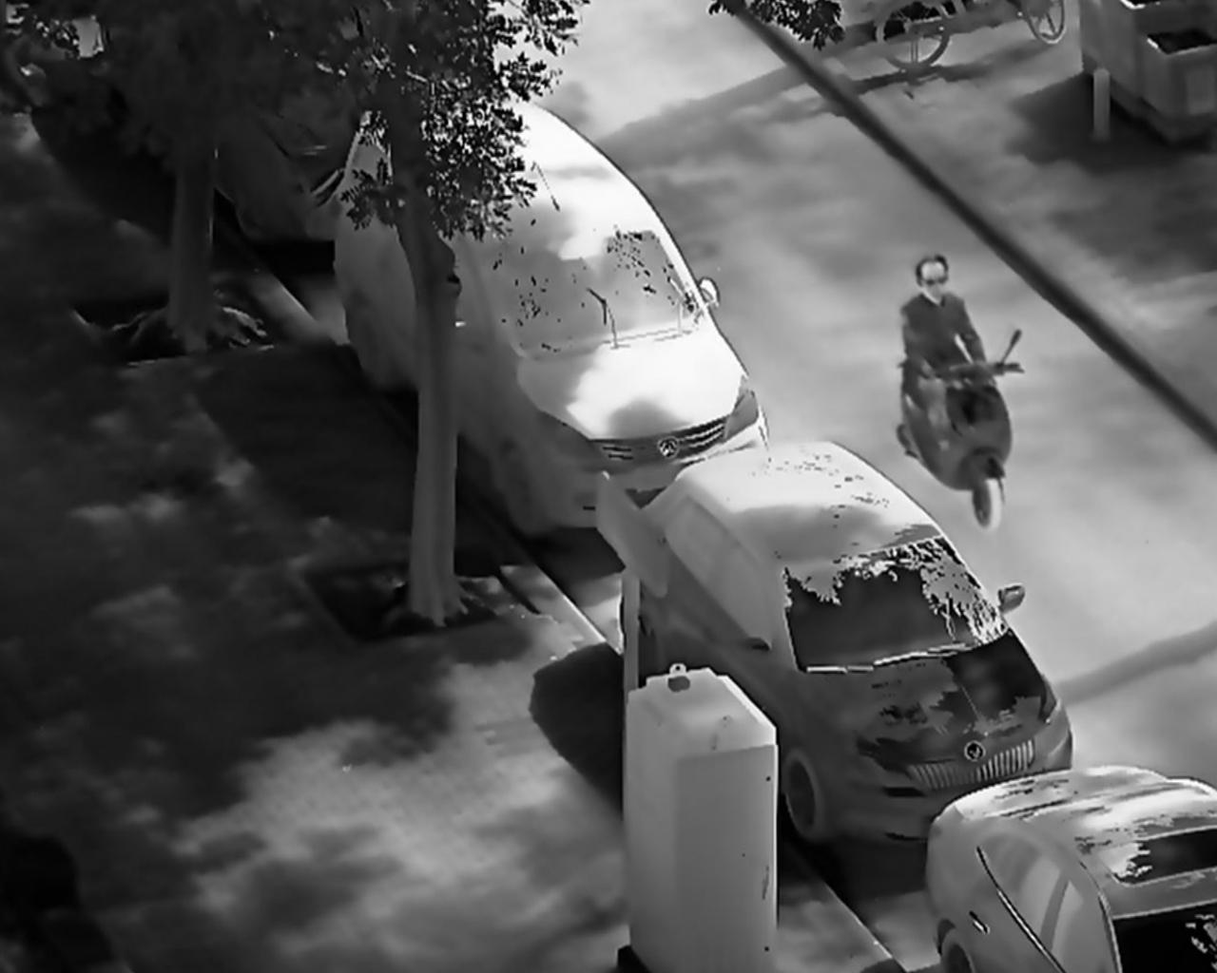person: (898, 252, 1000, 456)
